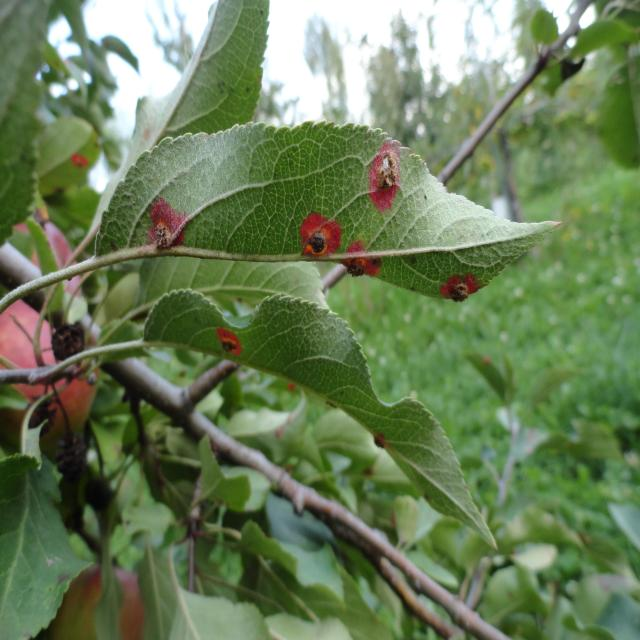Rust: (287, 211, 385, 299), (117, 172, 210, 260), (359, 126, 414, 223), (430, 270, 492, 319), (203, 317, 247, 370), (60, 134, 100, 188)
